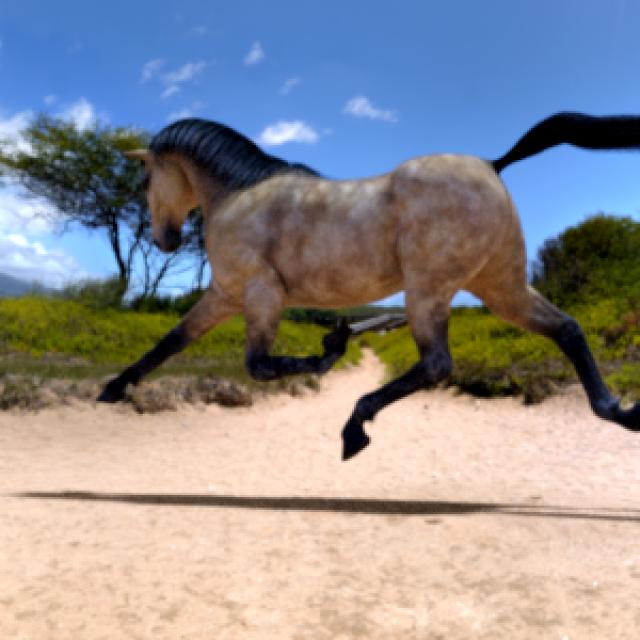horse: (100, 114, 640, 458)
